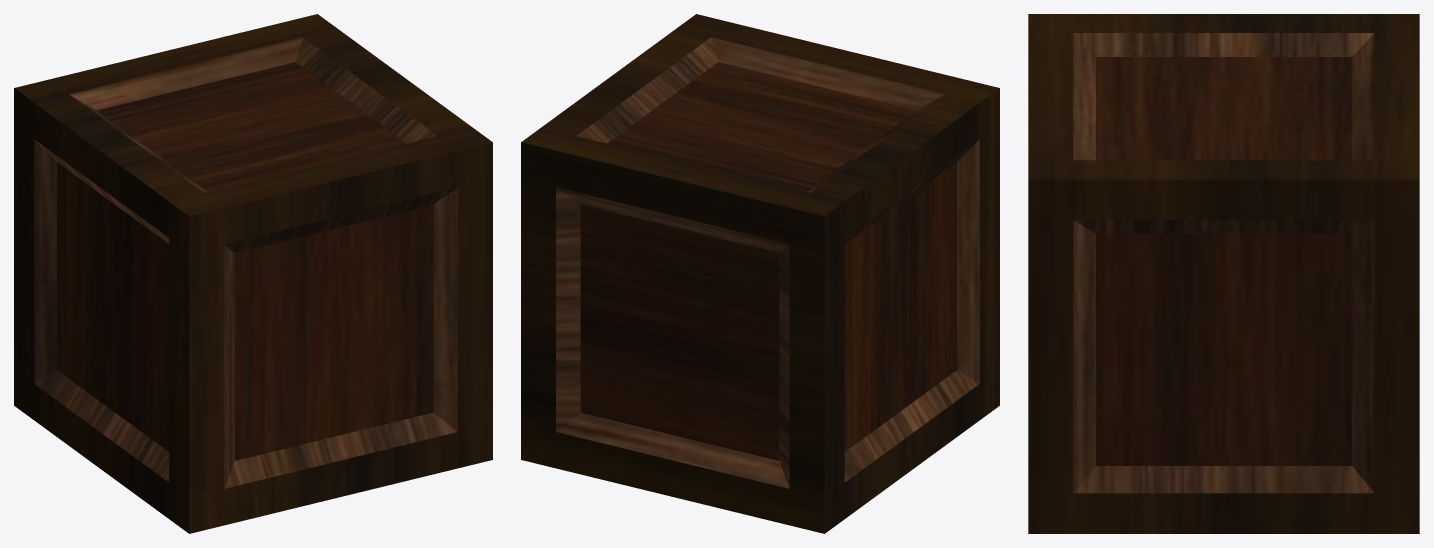
The model's file is Crate2-1.fbx.
3 renders of one model, left to right at view 1: azimuth 30°, elevation 25°; view 2: azimuth 150°, elevation 25°; view 3: azimuth 270°, elevation 25°, orthographic. The views are drawn at different scales.
Visible parts, largest first — view 1: pCube1; view 2: pCube1; view 3: pCube1.
Boxes of the visible parts, left/top/right/bottom form: pCube1: left=14, top=14, right=492, bottom=533; pCube1: left=521, top=14, right=999, bottom=533; pCube1: left=1028, top=14, right=1419, bottom=533.
Size of the model in its own units: 10 by 10 by 10.
3 materials, 3 textured.
